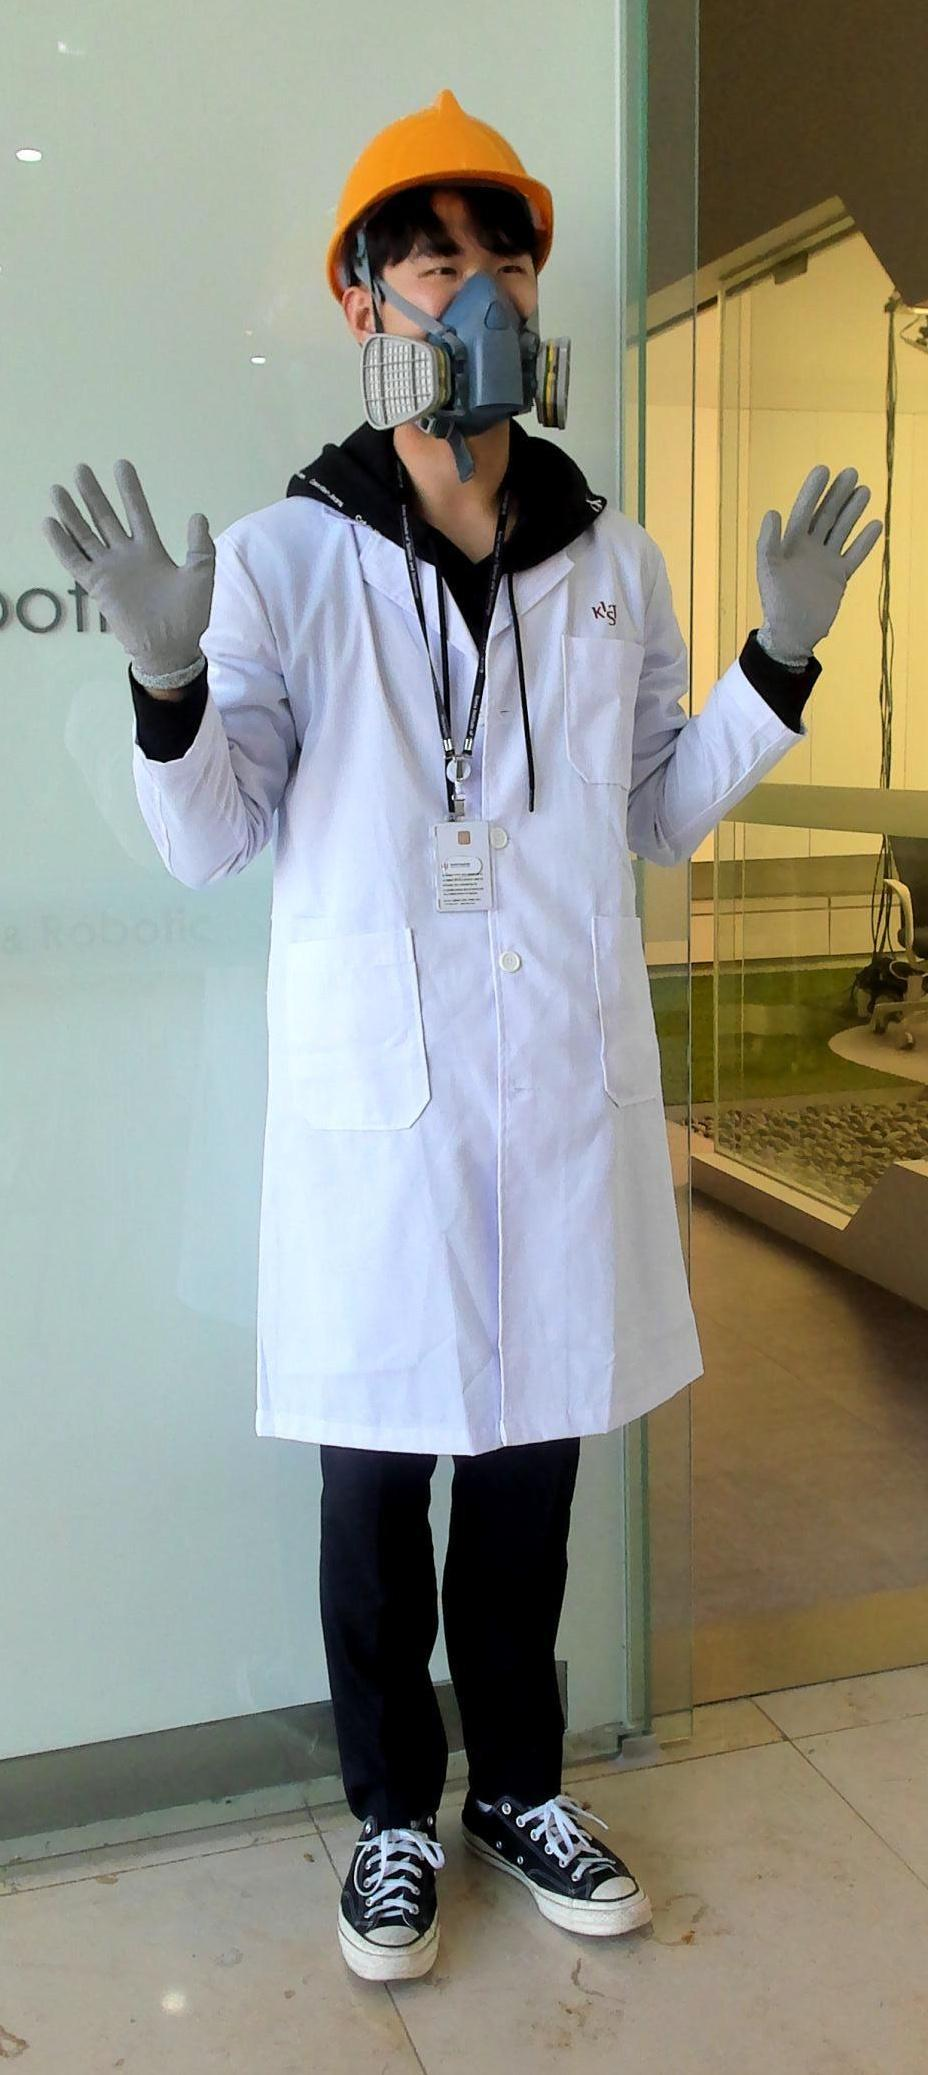lab_coat: (230, 521, 706, 1468)
